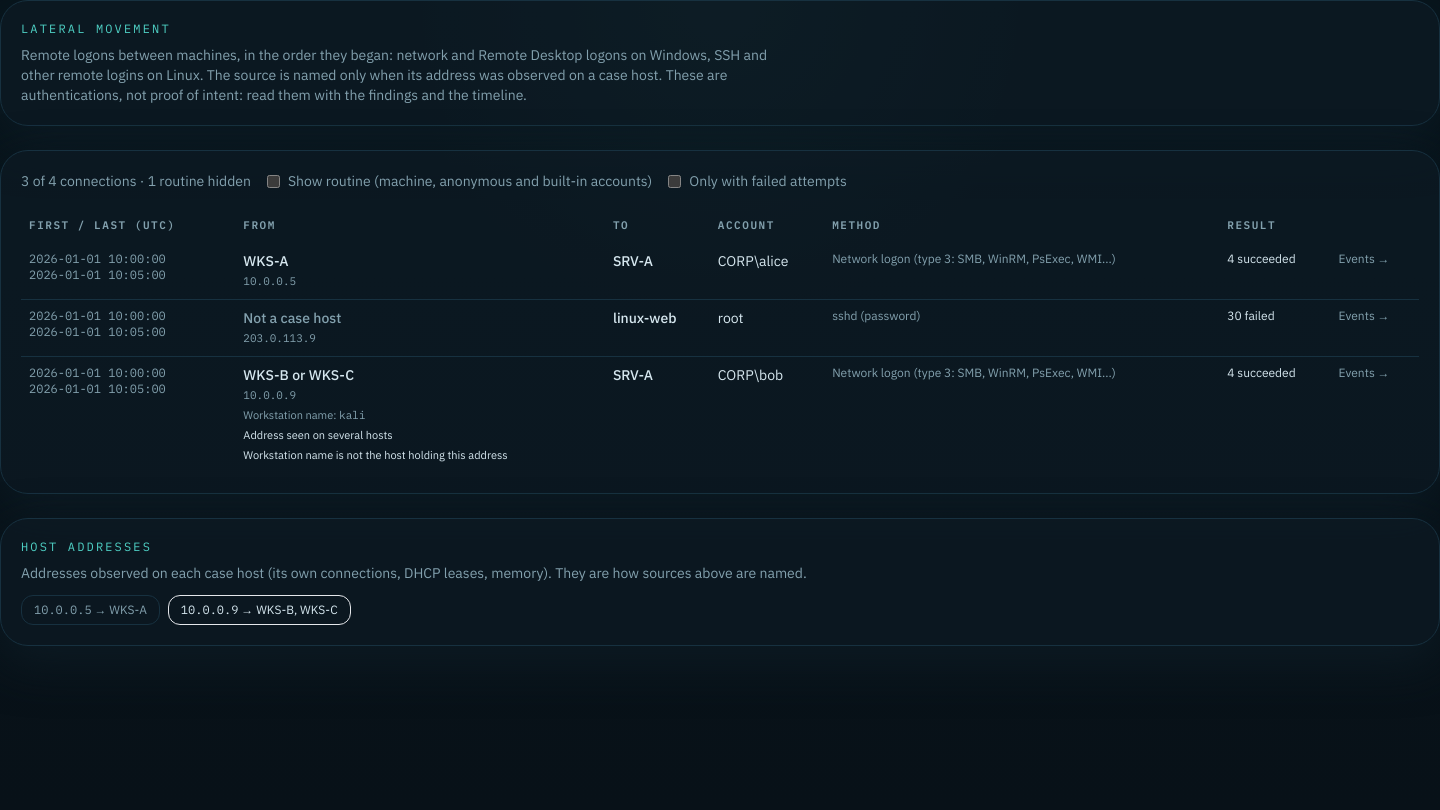
Test: LateralMovementPage › lists remote logons, hides routine ones until asked, and links to their events
Expected: the text with test id "lateral-summary" reads "3 of 4 connections · 1 routine hidden", left=21, top=171, right=251, bottom=191
Expected: the row with test id "lateral-row" shows "WKS-A", left=243, top=252, right=289, bottom=270
Click the checkbox labelled "Show routine (machine, anonymous and built-in accounts)" at (273, 181), box left=267, top=174, right=280, bottom=188
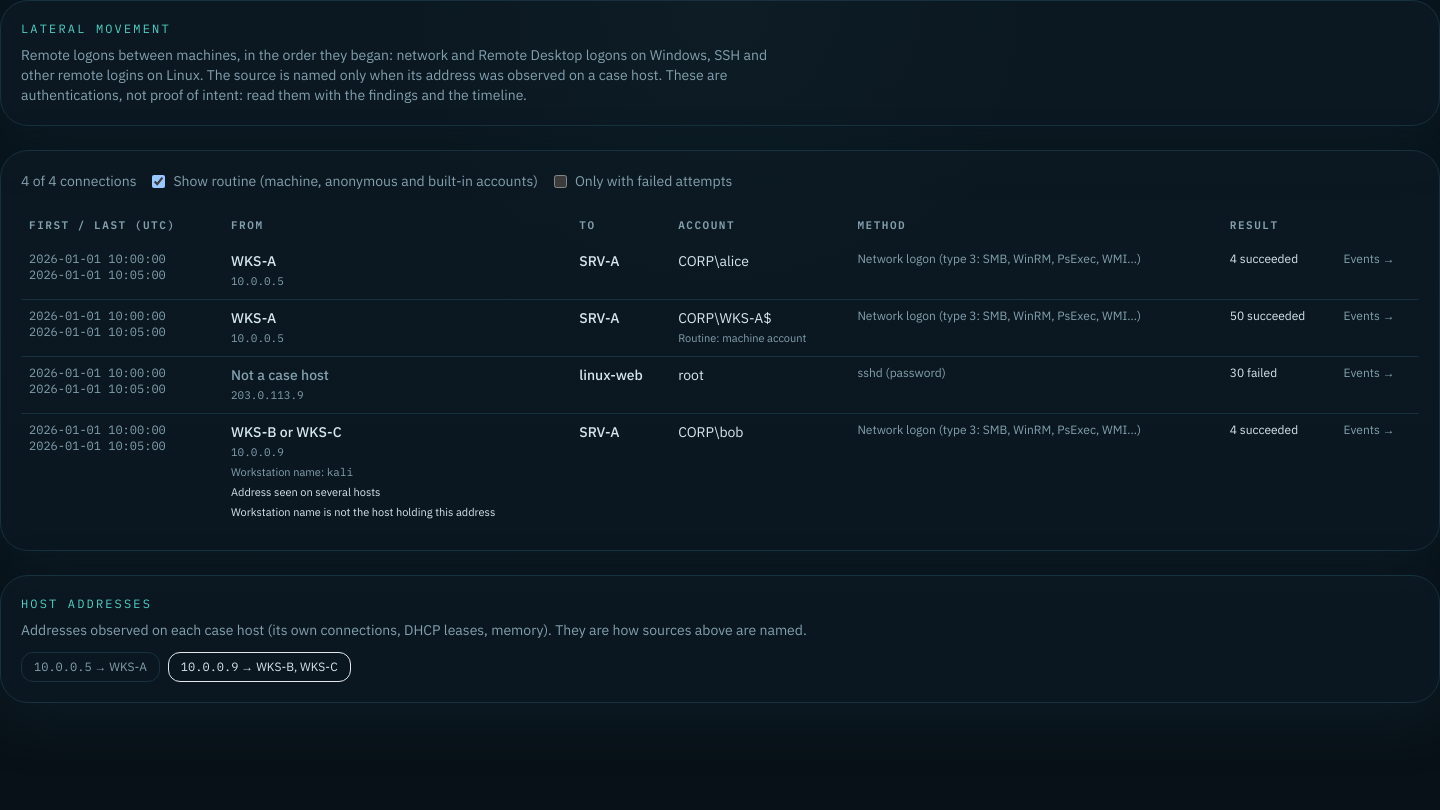
Result: the number of rows with test id "lateral-row" is 4 at left=21, top=243, right=1419, bottom=300; left=21, top=300, right=1419, bottom=356; left=21, top=356, right=1419, bottom=414; left=21, top=414, right=1419, bottom=530
Result: the text "Routine: machine account" is shown at left=678, top=331, right=806, bottom=345
Click the checkbox labelled "Only with failed attempts" at (560, 181), box left=554, top=174, right=567, bottom=188
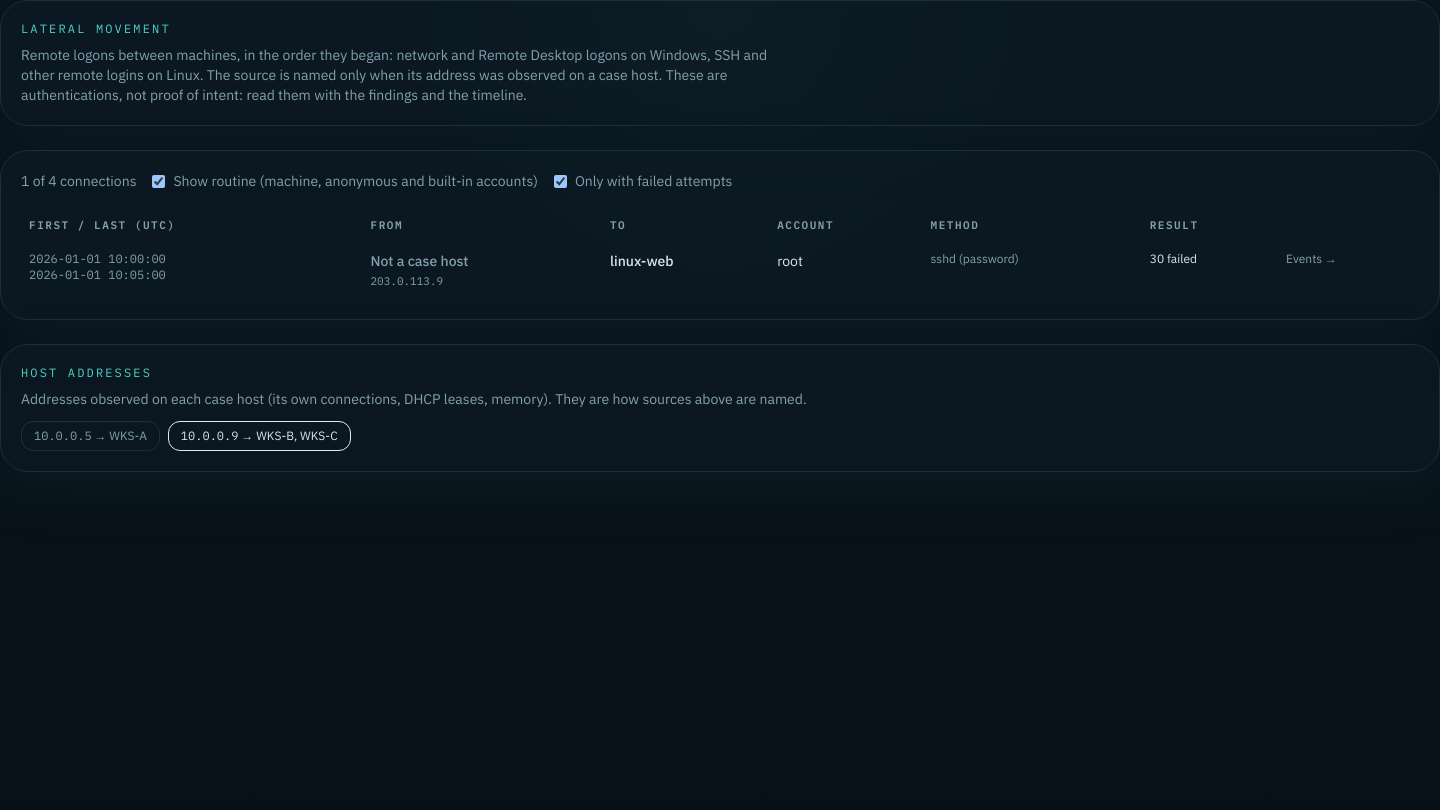
Result: the number of rows with test id "lateral-row" is 1 at left=21, top=243, right=1419, bottom=299
